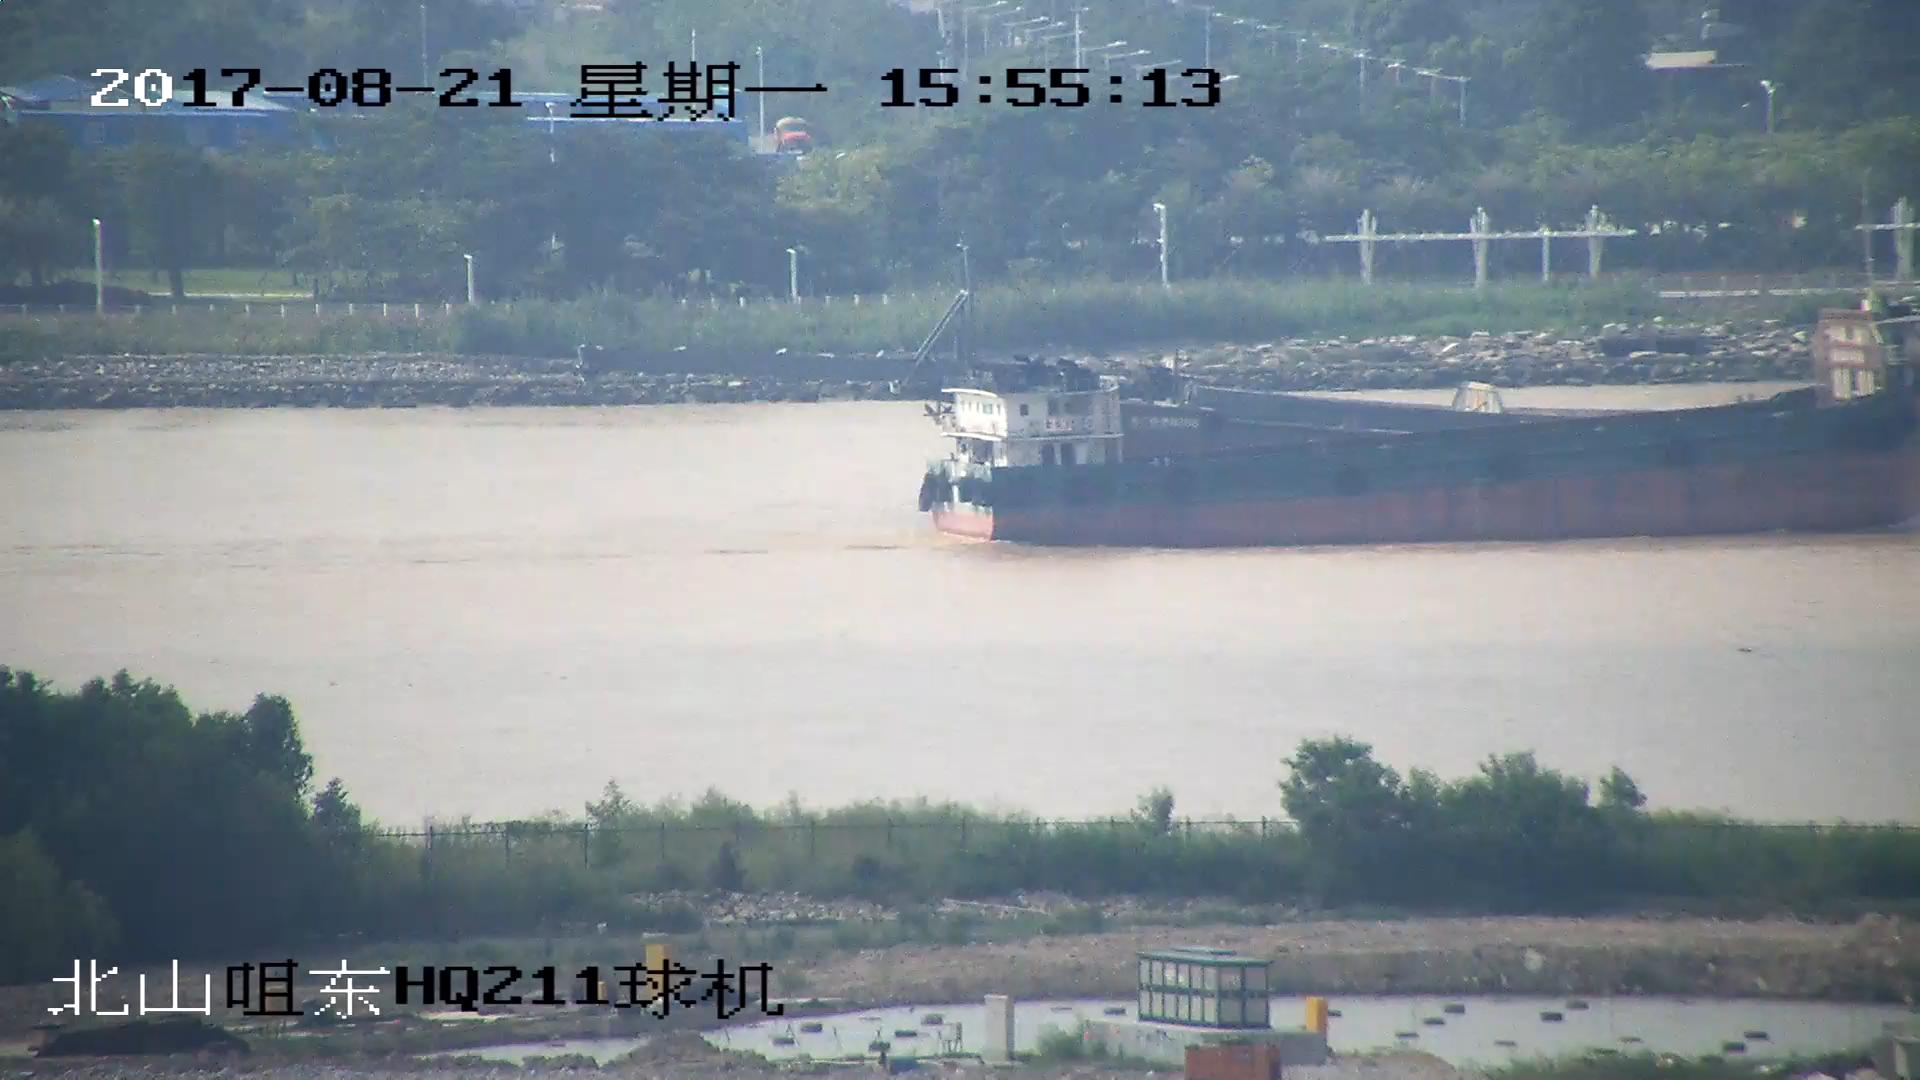bulk cargo carrier: (578, 241, 1920, 432)
general cargo ship: (921, 307, 1920, 552)
